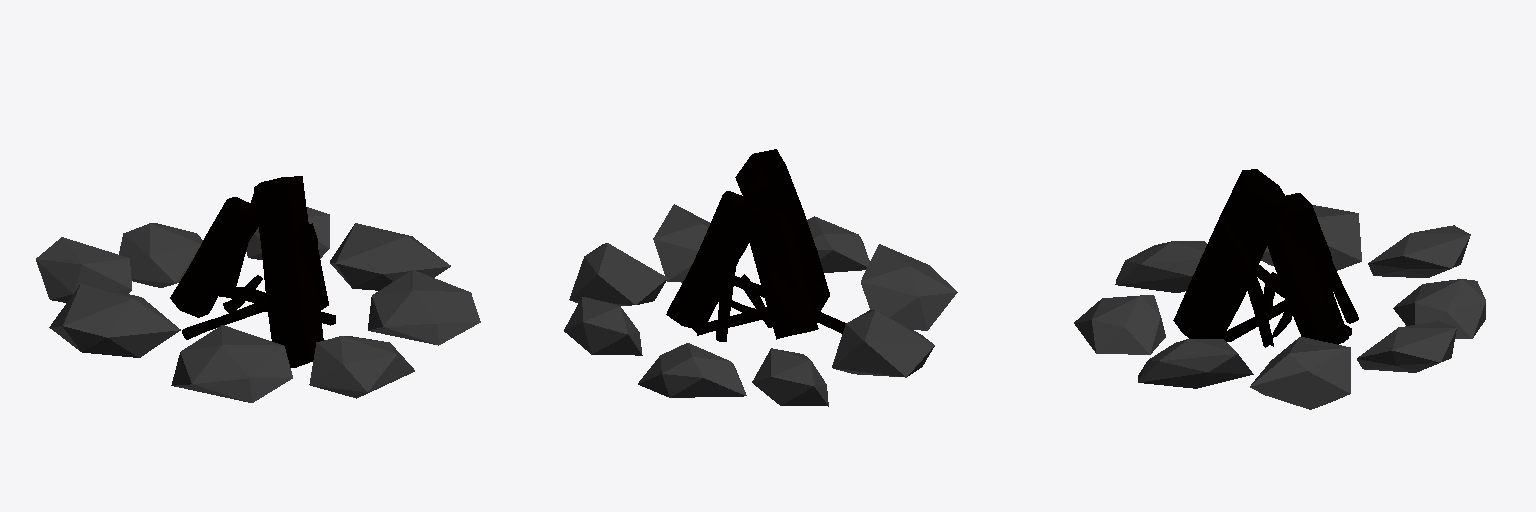
The model's file is camp_fire.obj.
3 renders of one model, left to right at view 1: azimuth 30°, elevation 25°; view 2: azimuth 150°, elevation 25°; view 3: azimuth 270°, elevation 25°, orthographic.
Visible parts, largest first — view 1: camp_fire_stones, camp_fire_wood_big, camp_fire_wood_small; view 2: camp_fire_stones, camp_fire_wood_big, camp_fire_wood_small; view 3: camp_fire_stones, camp_fire_wood_big, camp_fire_wood_small.
Boxes of the visible parts, box(x1,y1,x2,y2) form: camp_fire_stones: box(36, 207, 480, 402); camp_fire_wood_big: box(170, 176, 323, 367); camp_fire_wood_small: box(182, 194, 335, 339); camp_fire_stones: box(564, 204, 957, 406); camp_fire_wood_big: box(666, 149, 829, 339); camp_fire_wood_small: box(693, 204, 845, 341); camp_fire_stones: box(1074, 205, 1485, 409); camp_fire_wood_big: box(1173, 169, 1348, 344); camp_fire_wood_small: box(1218, 206, 1358, 347).
Size of the model in its own units: 2.57 by 1.24 by 2.55.